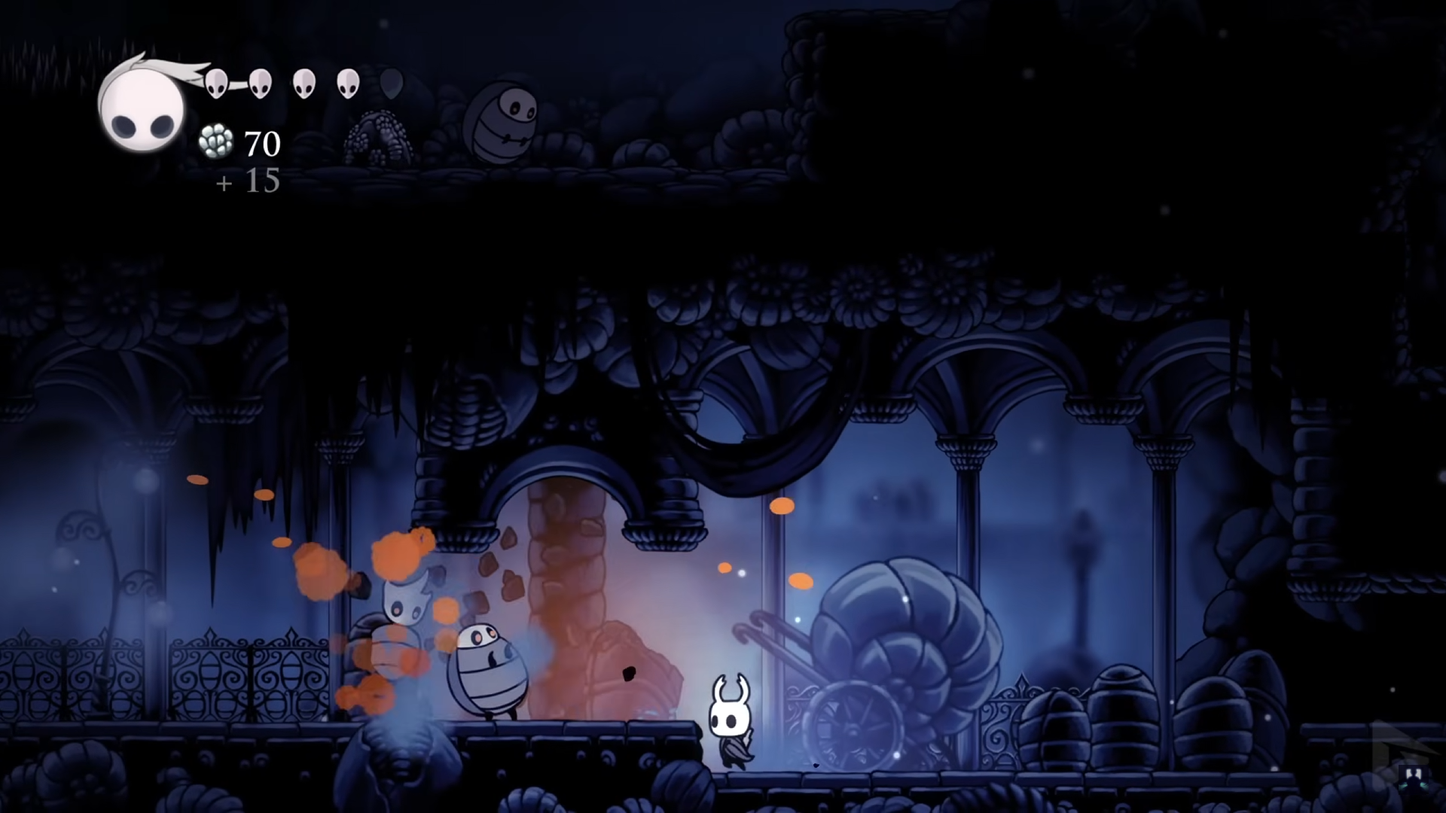HK: (700, 669, 760, 773)
